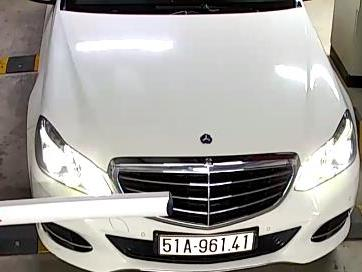number: (159, 230, 255, 256)
